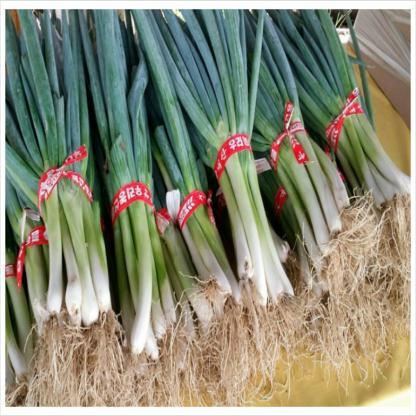green onion: (232, 1, 384, 338), (166, 3, 304, 319), (0, 6, 118, 354), (286, 0, 412, 285), (83, 7, 179, 369), (136, 7, 242, 321)
